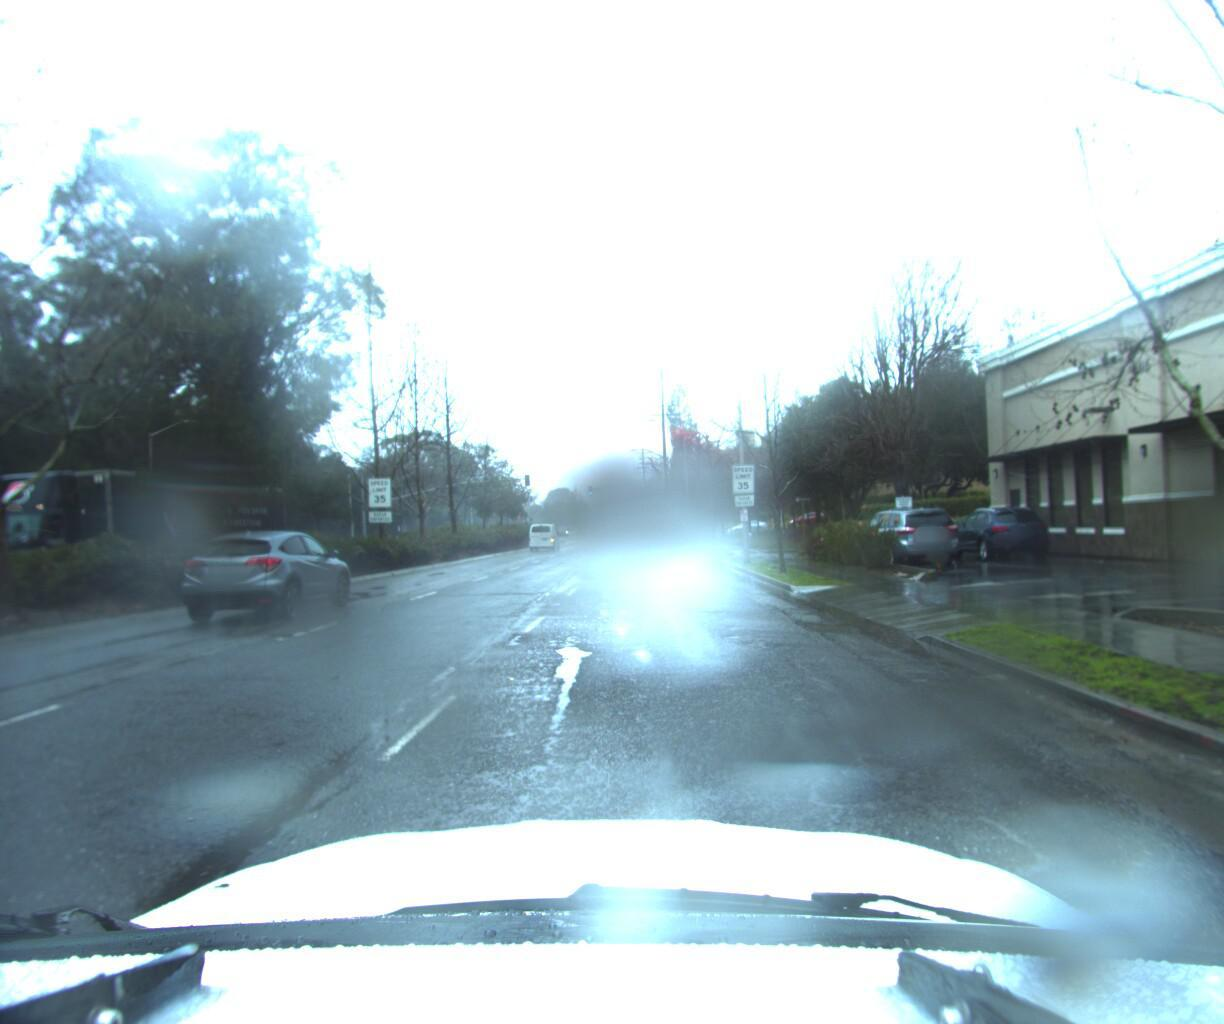car: (180, 524, 363, 629), (847, 497, 963, 561), (941, 498, 1058, 557), (620, 523, 656, 553), (527, 516, 562, 544)
